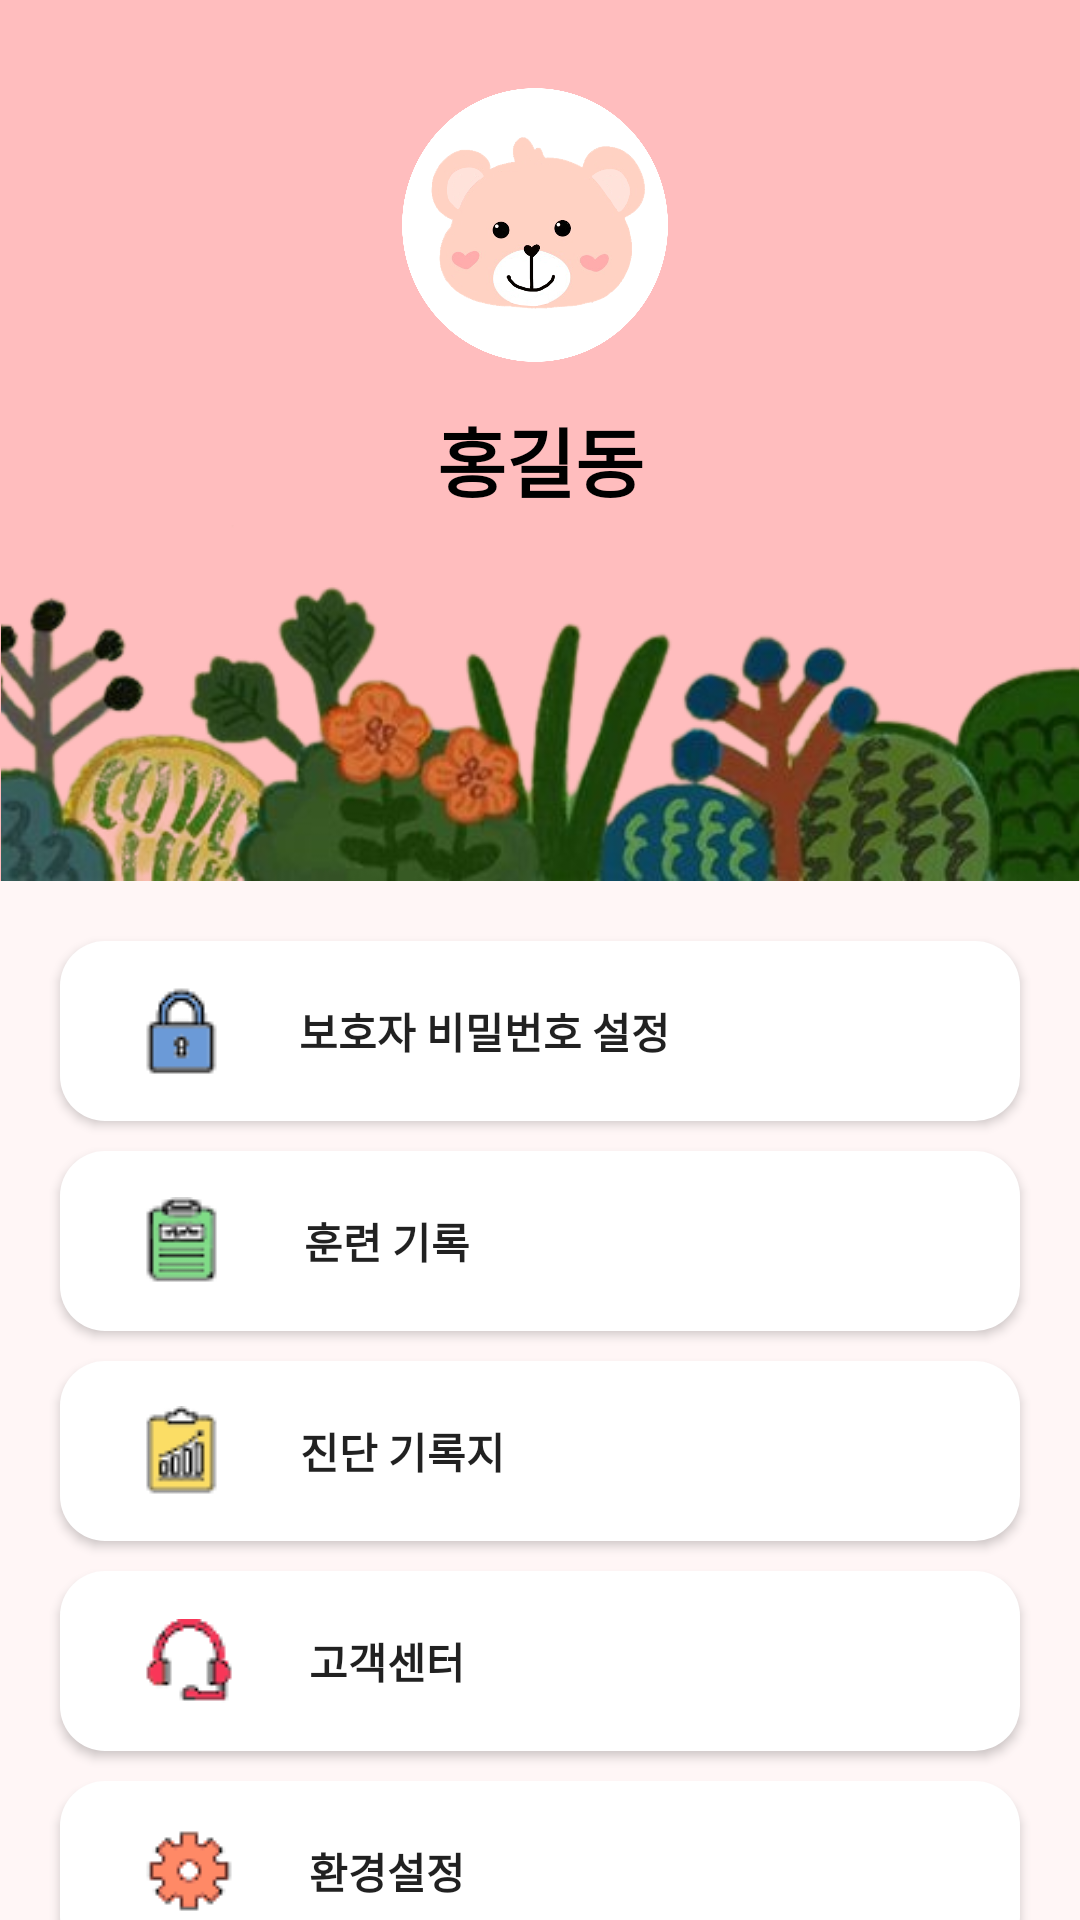

Where to tap for icons on this 1080w x 1920h app screen, as (x=x, y=y):
profile: (x=535, y=225)
